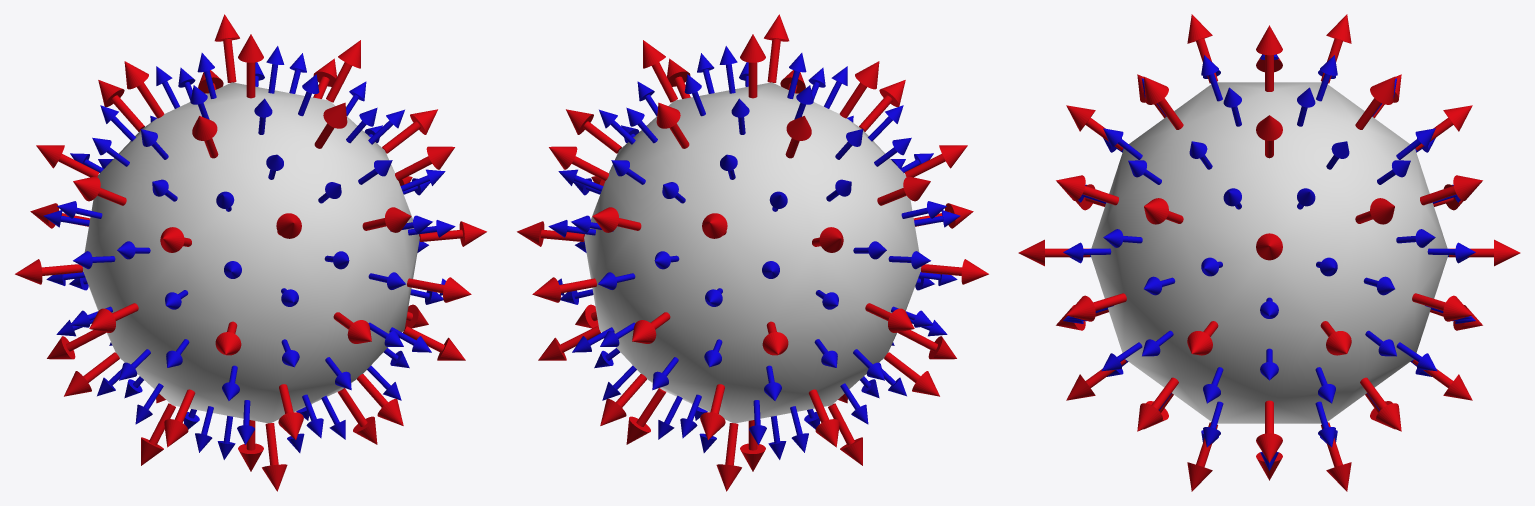
The picture shows the model from 3 angles, left to right: view 1: azimuth 30°, elevation 25°; view 2: azimuth 150°, elevation 25°; view 3: azimuth 270°, elevation 25°; orthographic projection. The views are drawn at different scales.
Parts seen in each view (by area): view 1: Cube.001; view 2: Cube.001; view 3: Cube.001.
Boxes of the visible parts, left/top/right/bottom form: Cube.001: left=15, top=14, right=486, bottom=491; Cube.001: left=517, top=14, right=988, bottom=491; Cube.001: left=1018, top=14, right=1520, bottom=491.
Size of the model in its own units: 2.66 by 2.8 by 2.8.
